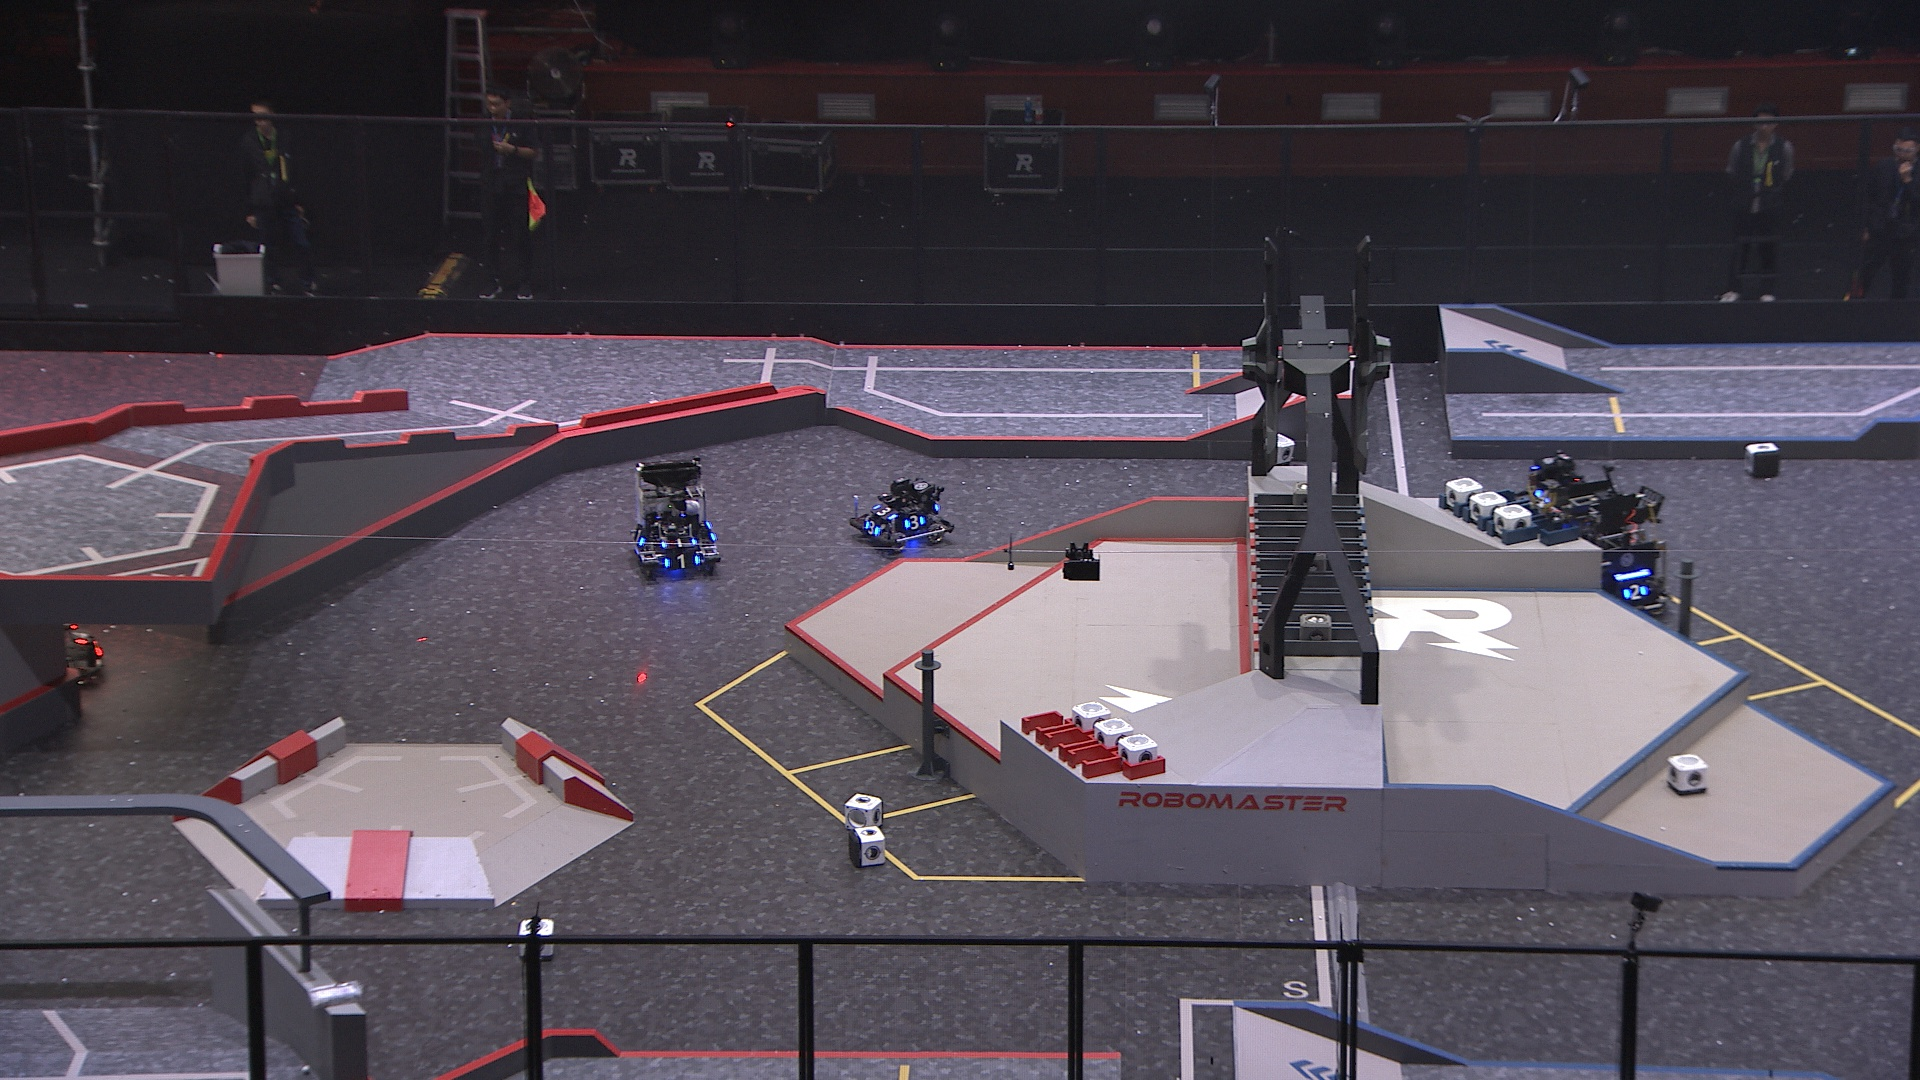armor: (661, 553, 702, 572), (659, 531, 700, 550), (868, 500, 899, 522), (899, 513, 928, 535), (1621, 583, 1651, 603), (629, 522, 651, 549), (861, 517, 884, 541), (69, 624, 90, 647), (1534, 483, 1552, 505)
car: (1542, 480, 1669, 617), (626, 458, 719, 575), (845, 475, 953, 551), (7, 608, 103, 690), (1524, 448, 1592, 508)
